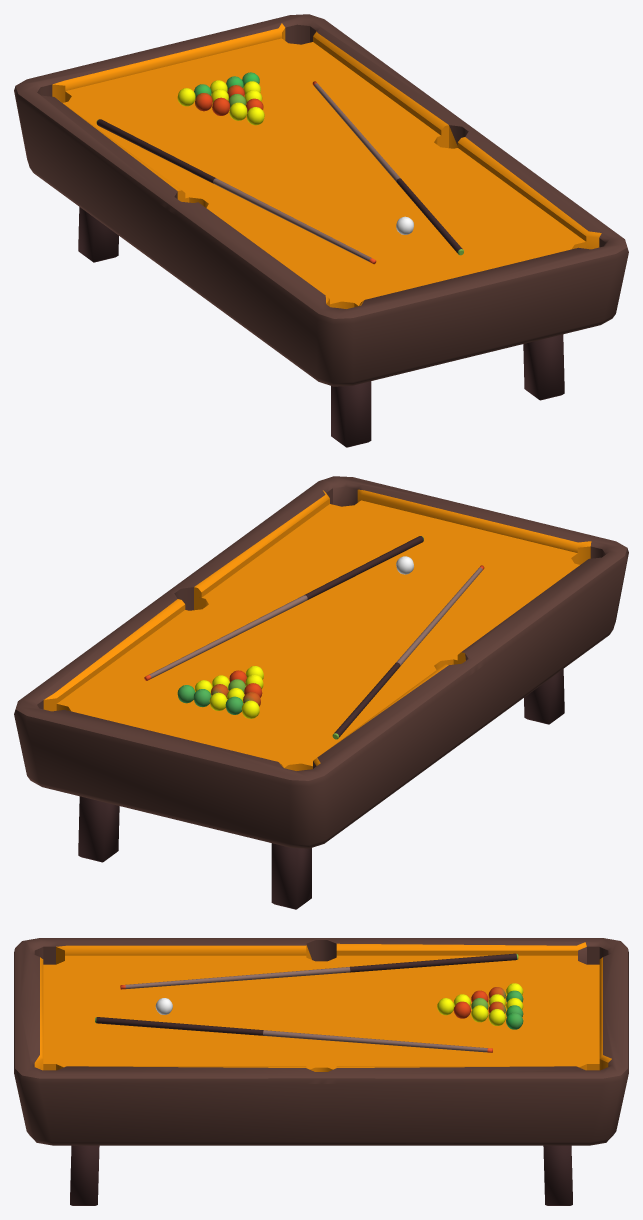
The model's file is SnookerTable.fbx.
3 renders of one model, top to bottom at view 1: azimuth 30°, elevation 25°; view 2: azimuth 150°, elevation 25°; view 3: azimuth 270°, elevation 25°, orthographic. The views are drawn at different scales.
Visible parts, largest first — view 1: SnookerTable; view 2: SnookerTable; view 3: SnookerTable.
Boxes of the visible parts, left/top/right/bottom form: SnookerTable: left=14, top=14, right=628, bottom=447; SnookerTable: left=14, top=476, right=628, bottom=909; SnookerTable: left=14, top=938, right=628, bottom=1205.
Bounding box in the file's own units: 47.04 × 24.45 × 86.25.
